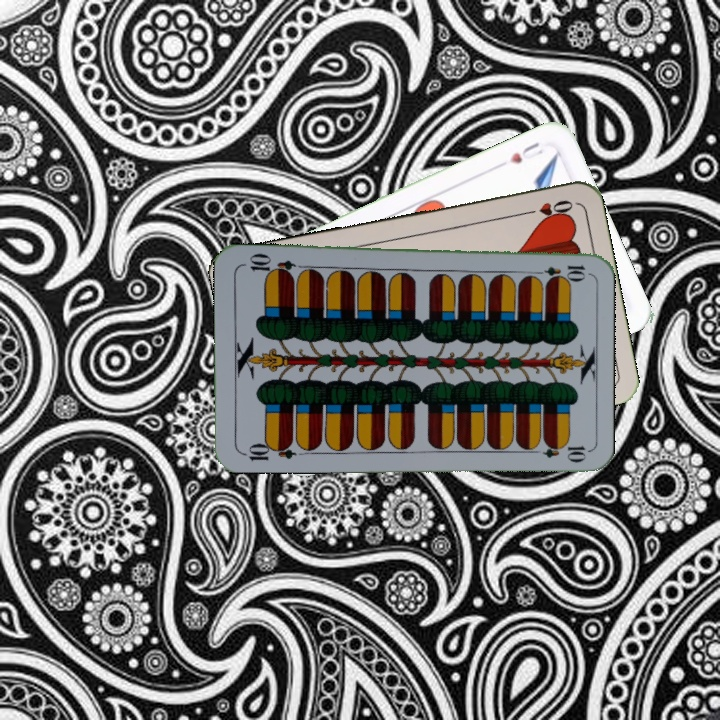E10: (238, 437, 297, 463), (529, 261, 588, 279)
HO: (518, 195, 576, 221)
HU: (505, 138, 546, 166)
